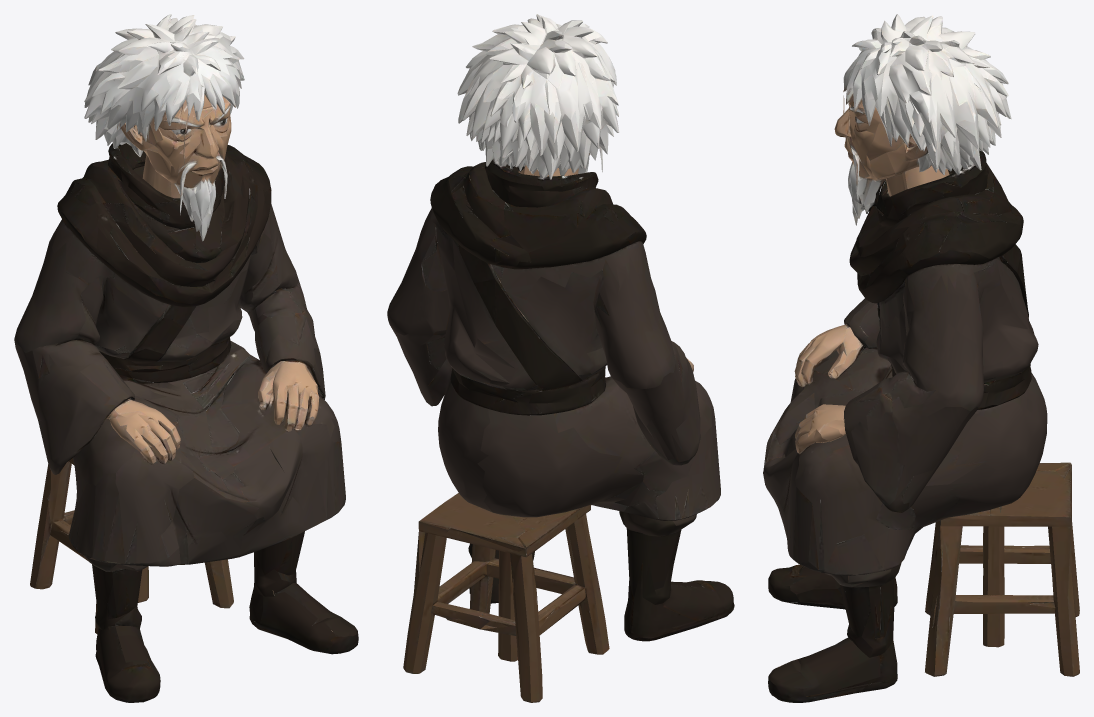
Rendered from jeongjeong2.glb.
3 renders of one model, left to right at view 1: azimuth 30°, elevation 25°; view 2: azimuth 150°, elevation 25°; view 3: azimuth 270°, elevation 25°, orthographic. The views are drawn at different scales.
Visible parts, largest first — view 1: Mesh_0; view 2: Mesh_0; view 3: Mesh_0.
Part boxes in pixels (left/top/right/bottom): Mesh_0: left=14, top=14, right=358, bottom=702; Mesh_0: left=387, top=14, right=734, bottom=702; Mesh_0: left=763, top=14, right=1079, bottom=702.
Size of the model in its own units: 0.9075 by 1.9 by 0.8843.
Materials: 1 (1 with a texture image).
